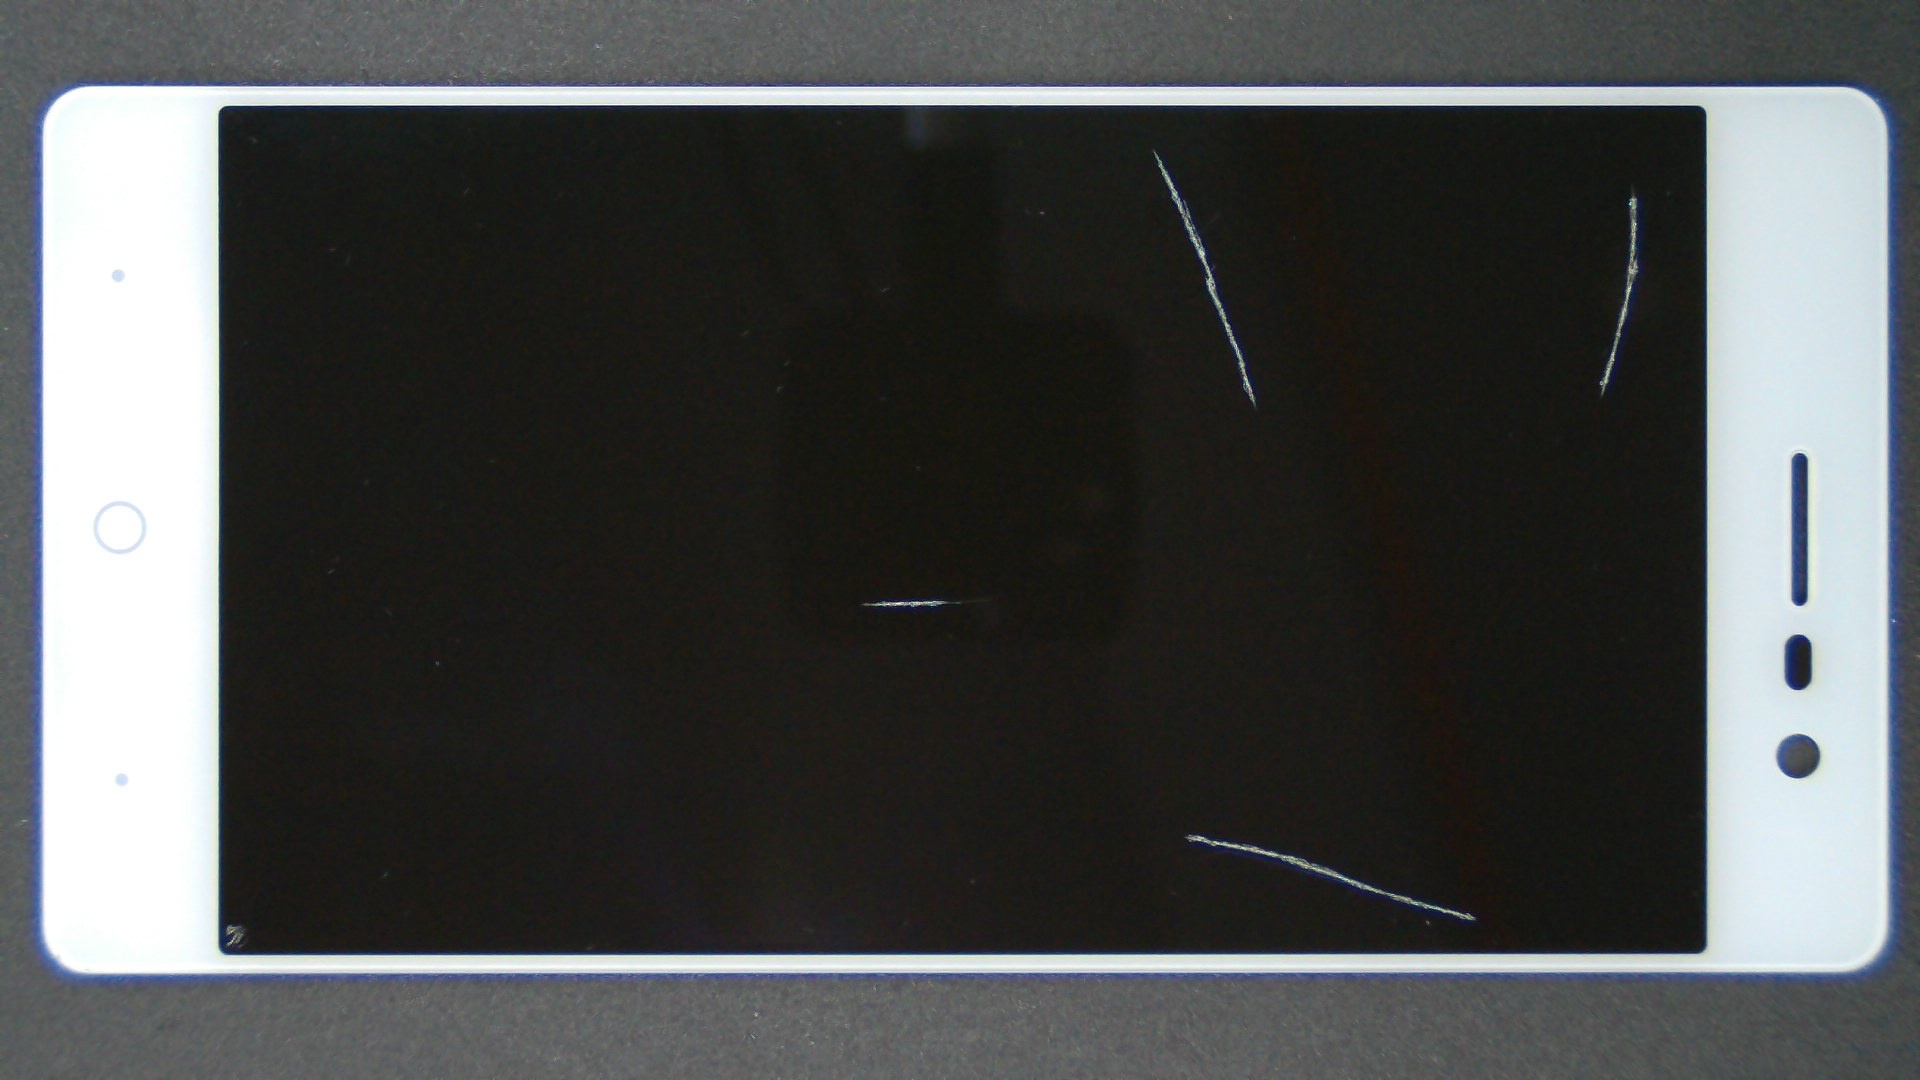oil: (596, 417, 1784, 1080), (459, 299, 1375, 901), (816, 90, 1920, 280), (576, 74, 1730, 224), (117, 462, 352, 1080)
